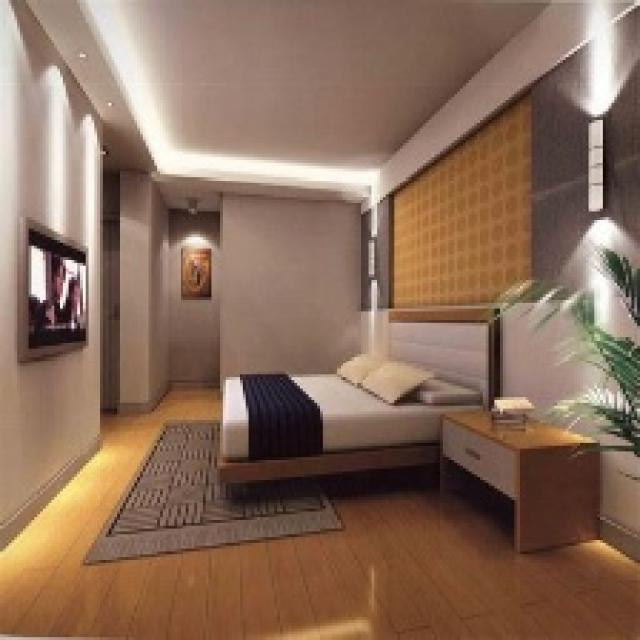Bed: (214, 306, 497, 500)
